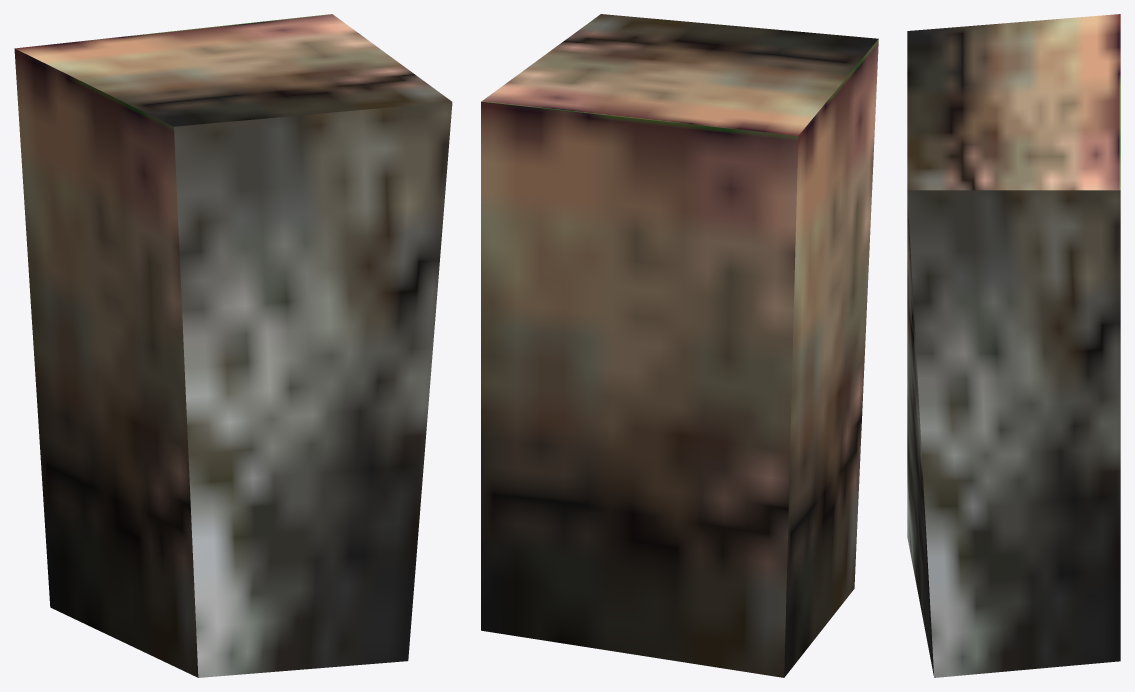
The model's file is USA - Base Infrastructure - Power Plant - Damage State 10 - ABPWRPLANT_d10.glb.
3 views of the same model, side by side, from view 1: azimuth 30°, elevation 25°; view 2: azimuth 150°, elevation 25°; view 3: azimuth 270°, elevation 25° (orthographic). The views are drawn at different scales.
Parts seen in each view (by area): view 1: ABPWRPLANT_D10; view 2: ABPWRPLANT_D10; view 3: ABPWRPLANT_D10.
Boxes of the visible parts, box(x1,y1,x2,y2) form: ABPWRPLANT_D10: box(14, 14, 452, 677); ABPWRPLANT_D10: box(481, 14, 878, 677); ABPWRPLANT_D10: box(907, 14, 1120, 677).
Bounding box in the file's own units: 2.11 × 3.84 × 1.38.
Materials: 1 (1 with a texture image).
